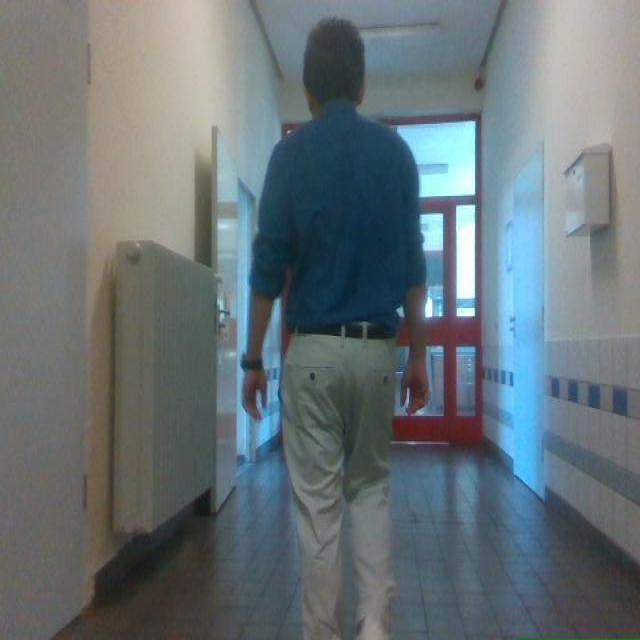humans: (241, 19, 428, 639)
